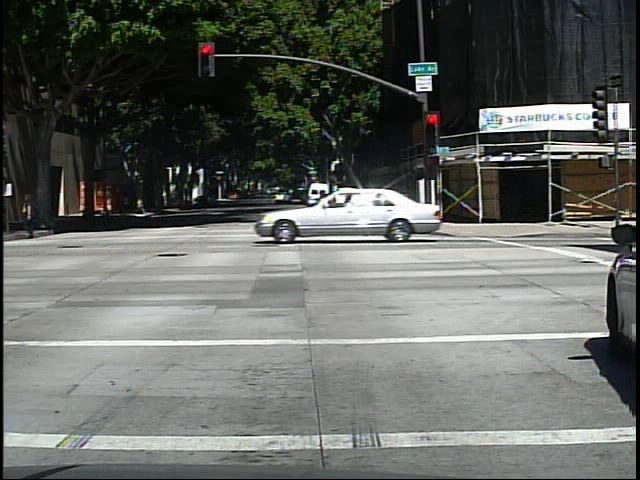person: (17, 189, 47, 242)
